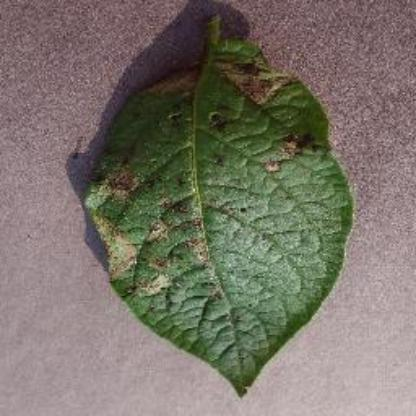Late-Blight: (82, 9, 358, 395)
